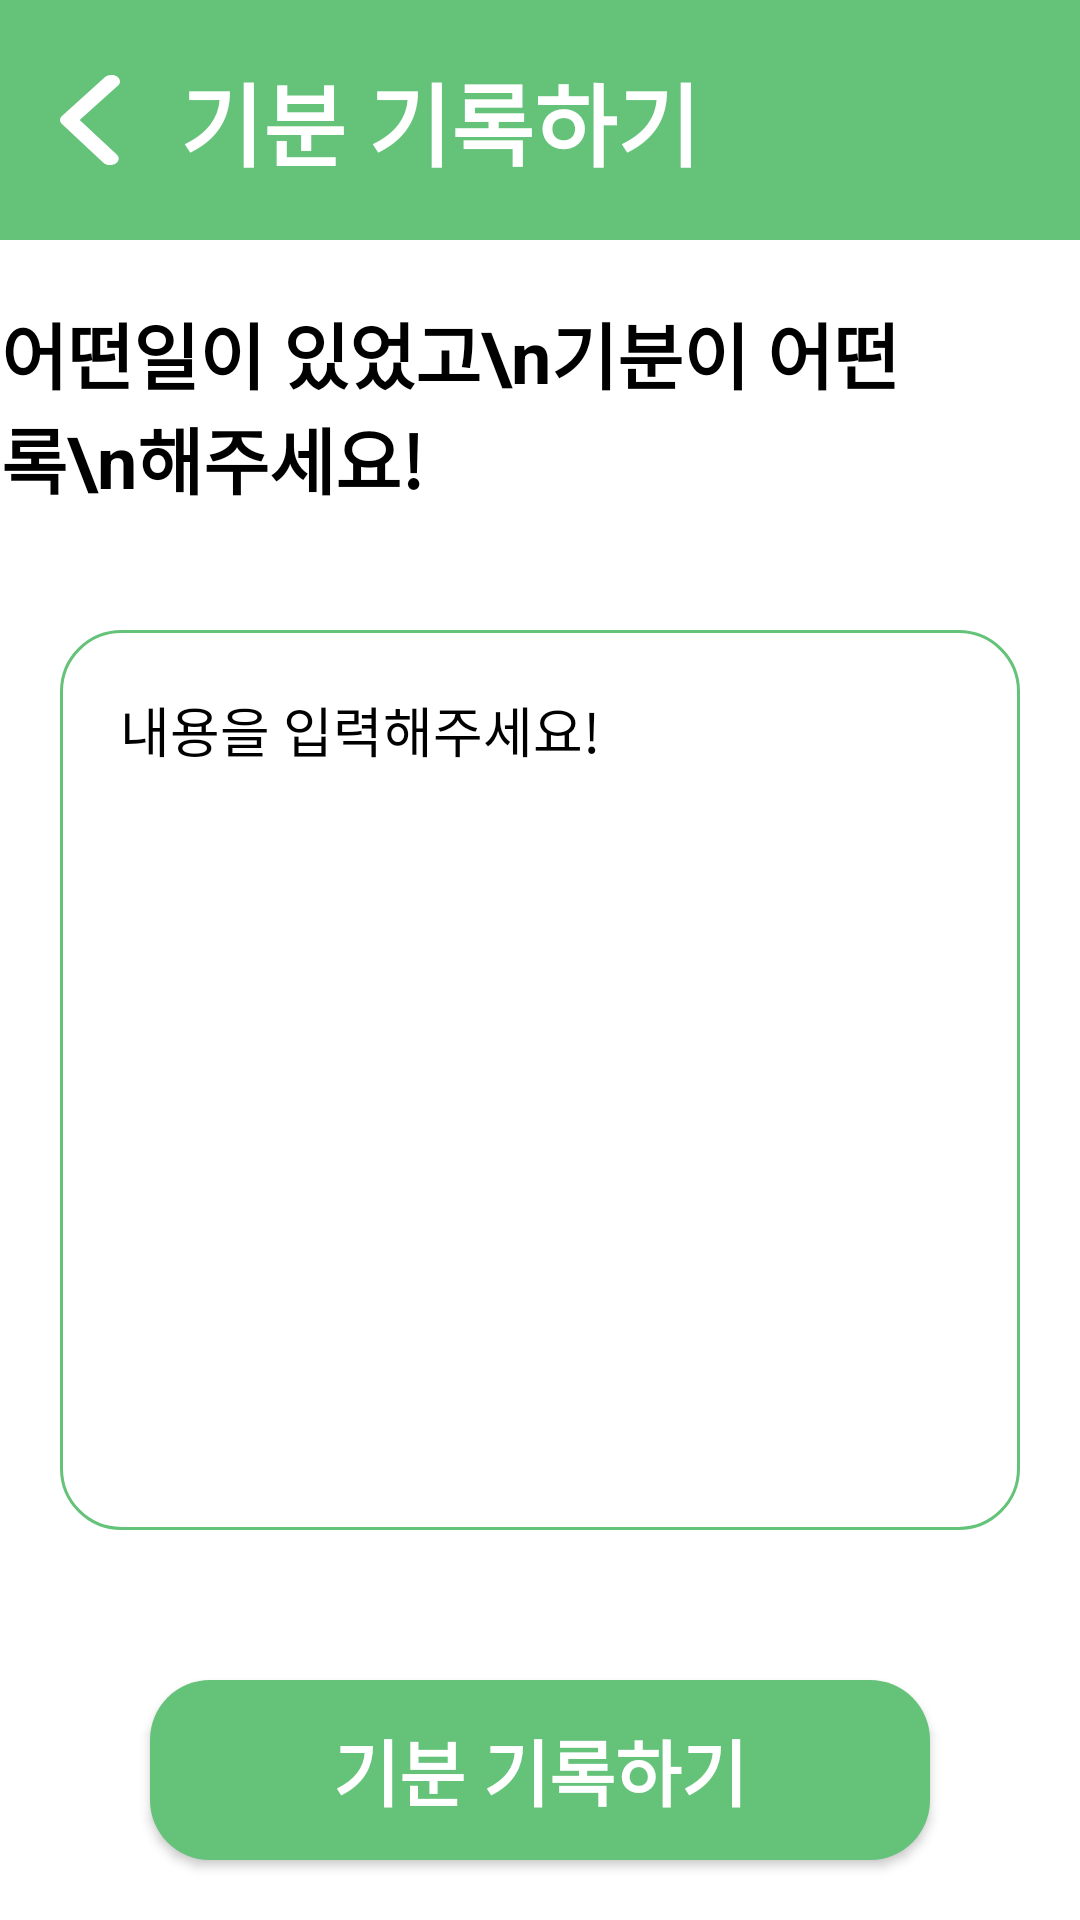

Icons on this 1080×1920 Android screen, each with the point to tap as [x,y]:
back: [90,120]
